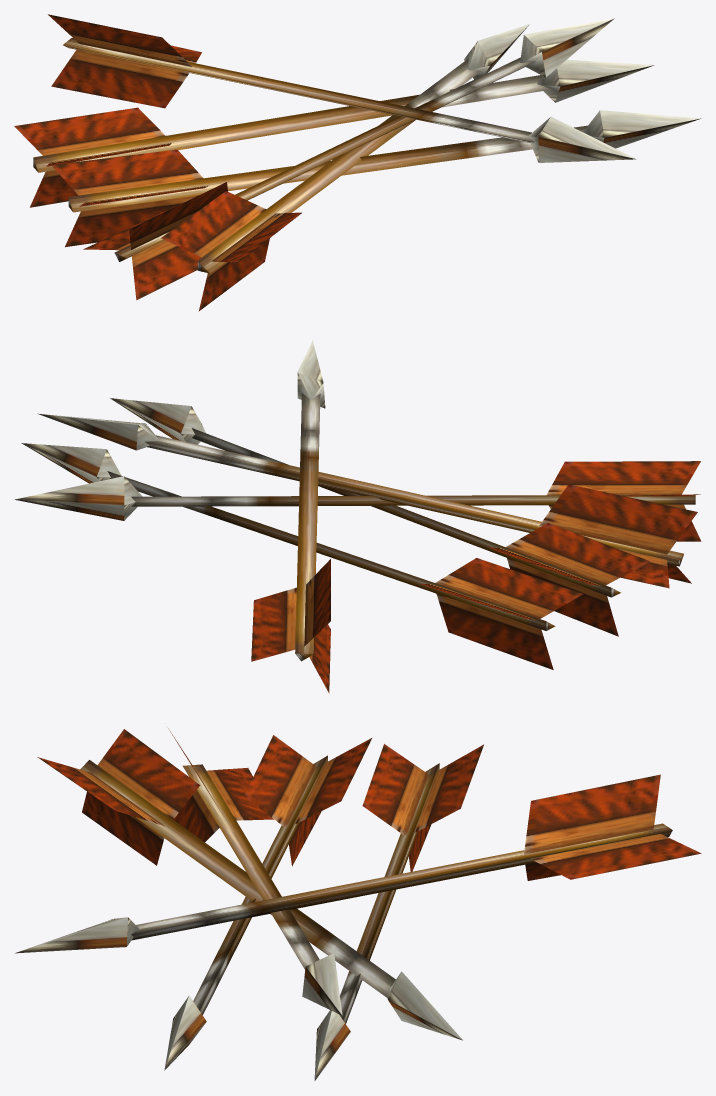
File: humanarrows.obj
3 views of the same model, one above another, from view 1: azimuth 30°, elevation 25°; view 2: azimuth 150°, elevation 25°; view 3: azimuth 270°, elevation 25° (orthographic). The views are drawn at different scales.
Parts seen in each view (by area): view 1: humanarrows; view 2: humanarrows; view 3: humanarrows.
Part boxes in pixels (x1=…): humanarrows: x1=14, y1=14, x2=701, y2=311; humanarrows: x1=15, y1=340, x2=701, y2=693; humanarrows: x1=15, y1=728, x2=701, y2=1080.
Bounding box in the file's own units: 0.9008 × 0.1397 × 0.7882.
Materials: 1 (1 with a texture image).
